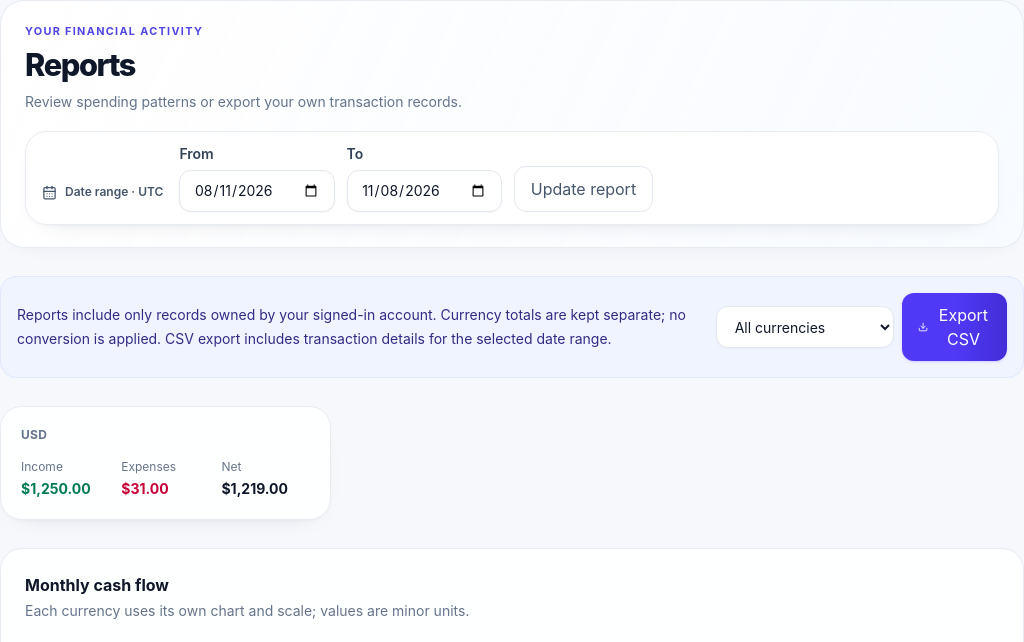
reports page › follows transaction cursors for a complete export and downloads fresh owner records
Expected: the heading "Monthly cash flow" is shown, [25,575,169,595]
Click the button "Export CSV".
click(954, 327)  # box [902,293,1007,361]
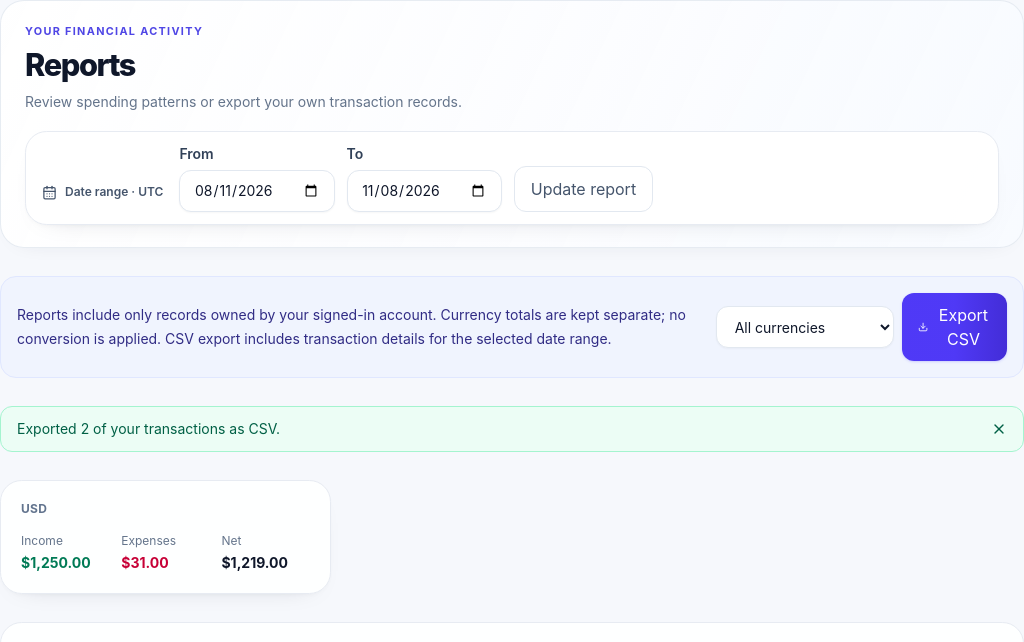
Expected: the message reads "Exported 2 of your transactions as CSV.", [17,420,280,437]
